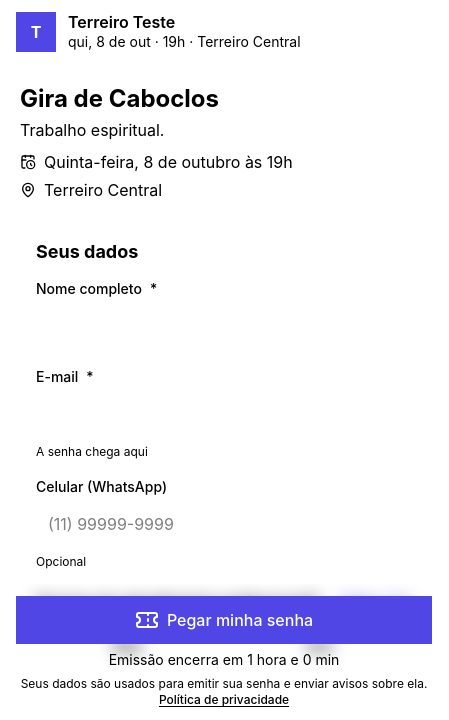
Test: Emissão pública — formulário › mostra a gira com data e hora, os três campos e o botão de 48px
Expected: the heading "Gira de Caboclos" is shown, [20,84,219,113]
Expected: the text "Quinta-feira, 8 de outubro às 19h" is shown, [44,150,293,174]
Type "11987654321" into the field labelled "Celular (WhatsApp)" at (224,524), box [36,500,412,548]
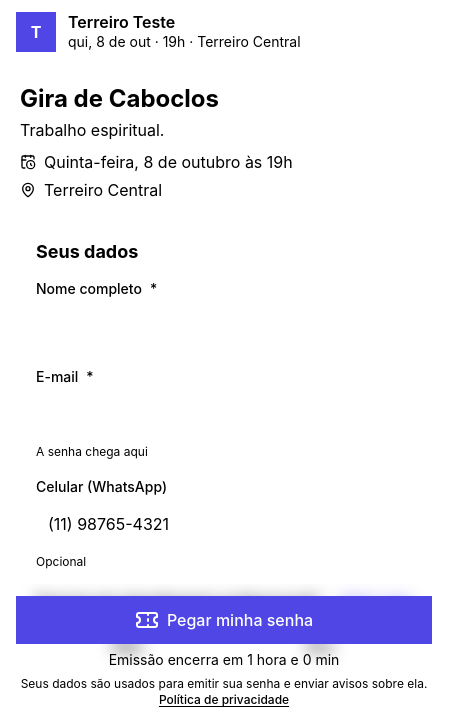
Expected: the button "Pegar minha senha" is enabled, [16,596,432,644]
Expected: the field labelled "Celular (WhatsApp)" holds "(11) 98765-4321", [36,500,412,548]
